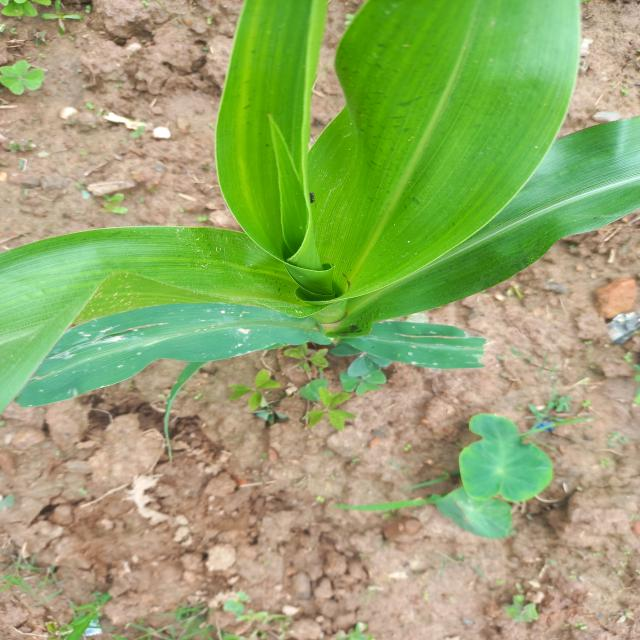maize: (6, 2, 640, 390)
weed: (2, 535, 395, 640), (404, 394, 563, 551), (0, 41, 61, 119), (285, 374, 371, 428), (488, 587, 566, 634), (225, 369, 288, 426), (8, 0, 106, 30), (287, 335, 350, 367)
